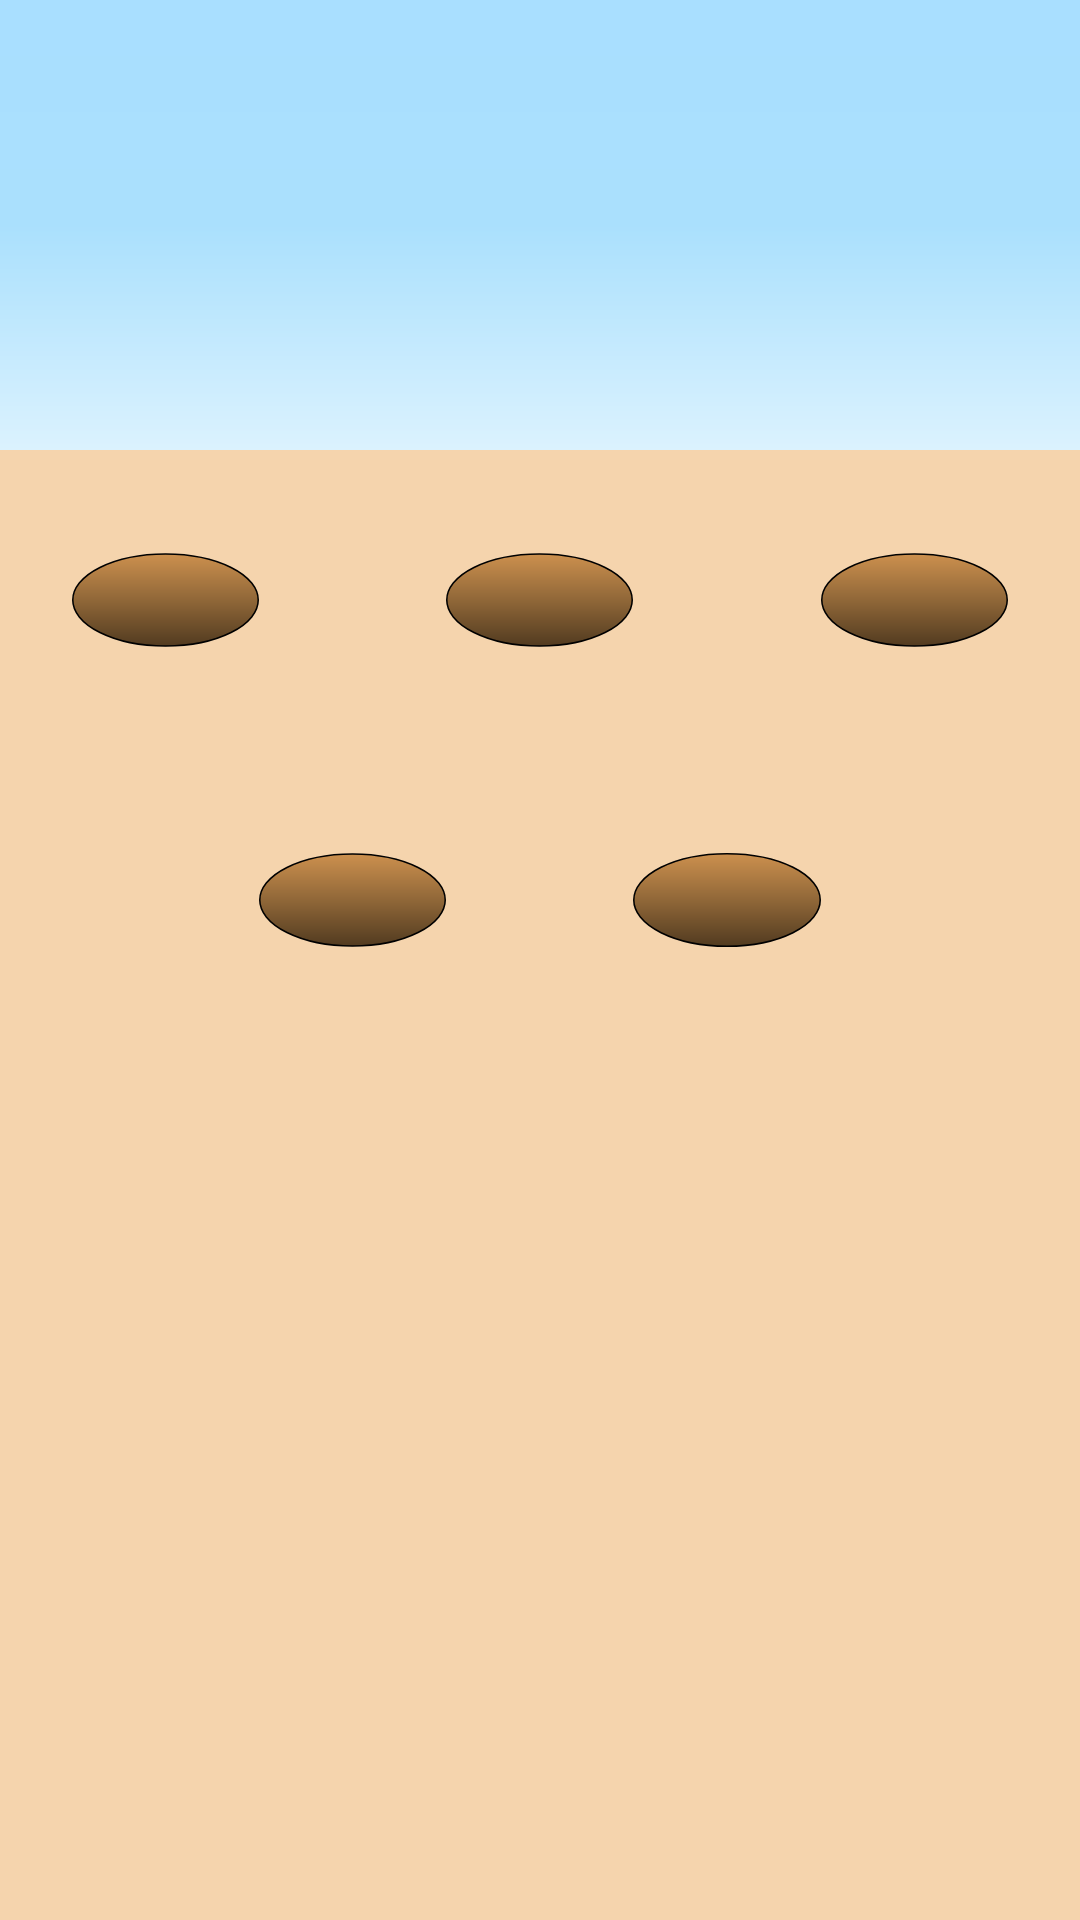

Icon click points for this 1080px×1920px phone screenshot, format (x,y):
holes: (165,600), (539,600), (914,600), (352,900), (727,900)
